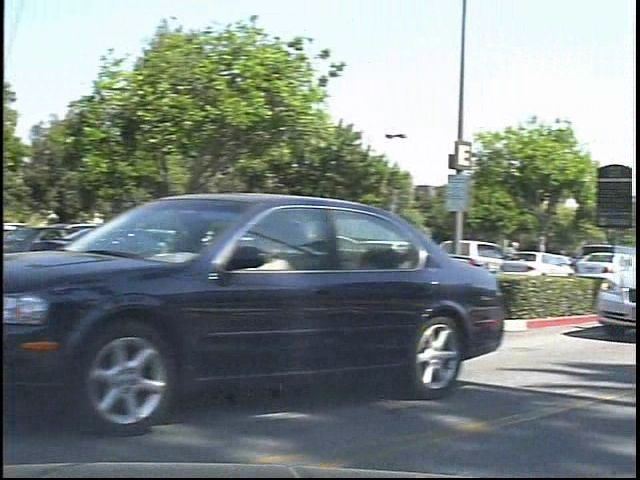person: (510, 233, 537, 288)
